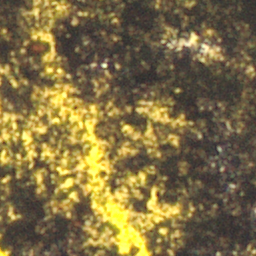cement_matrix: (0, 0, 255, 255), (22, 132, 31, 144), (63, 180, 71, 188), (153, 111, 163, 117), (40, 32, 48, 39), (61, 164, 66, 169), (46, 150, 50, 155), (7, 117, 11, 122), (188, 38, 193, 42), (207, 49, 210, 52)
cracks: (49, 89, 175, 255), (23, 133, 30, 143), (0, 249, 6, 255), (64, 181, 70, 187), (154, 112, 162, 116), (41, 33, 47, 38), (62, 165, 65, 168), (47, 151, 49, 154), (8, 118, 10, 121), (189, 39, 192, 41), (208, 50, 209, 51)
